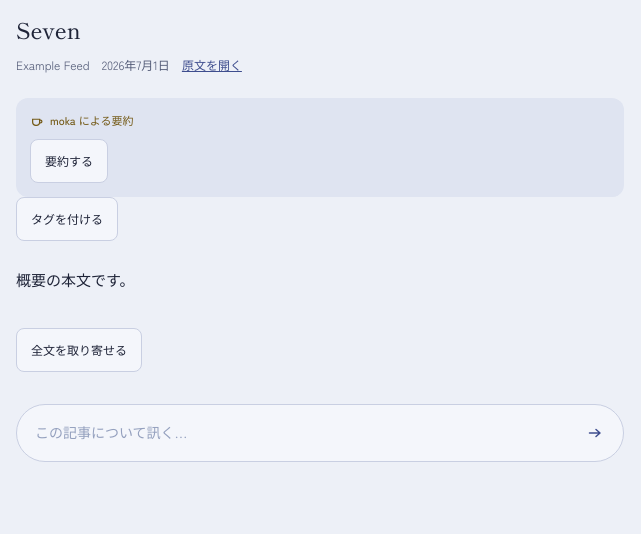
it: articles/[id] reading view — 全文取り寄せ › shows an inline failure block and keeps the retry button on error
Click the button "全文を取り寄せる" at coordinates (79, 350), box x1=16 y1=328 x2=142 y2=372
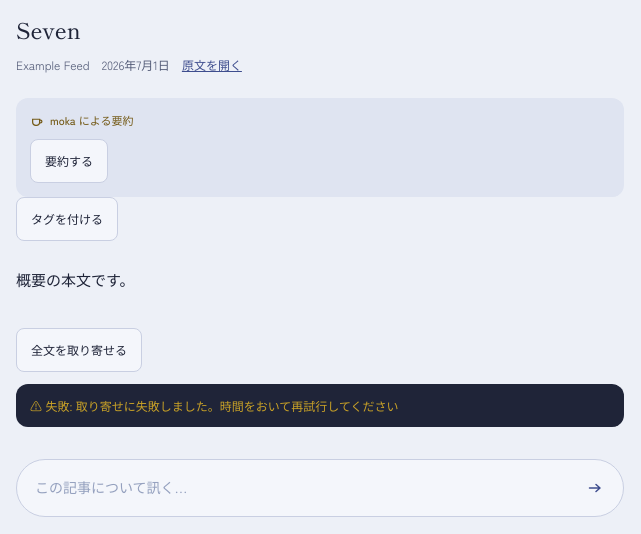
Result: the message shows "失敗:" at x1=42 y1=397 x2=399 y2=414
Result: the message shows "時間をおいて再試行してください" at x1=42 y1=397 x2=399 y2=414
